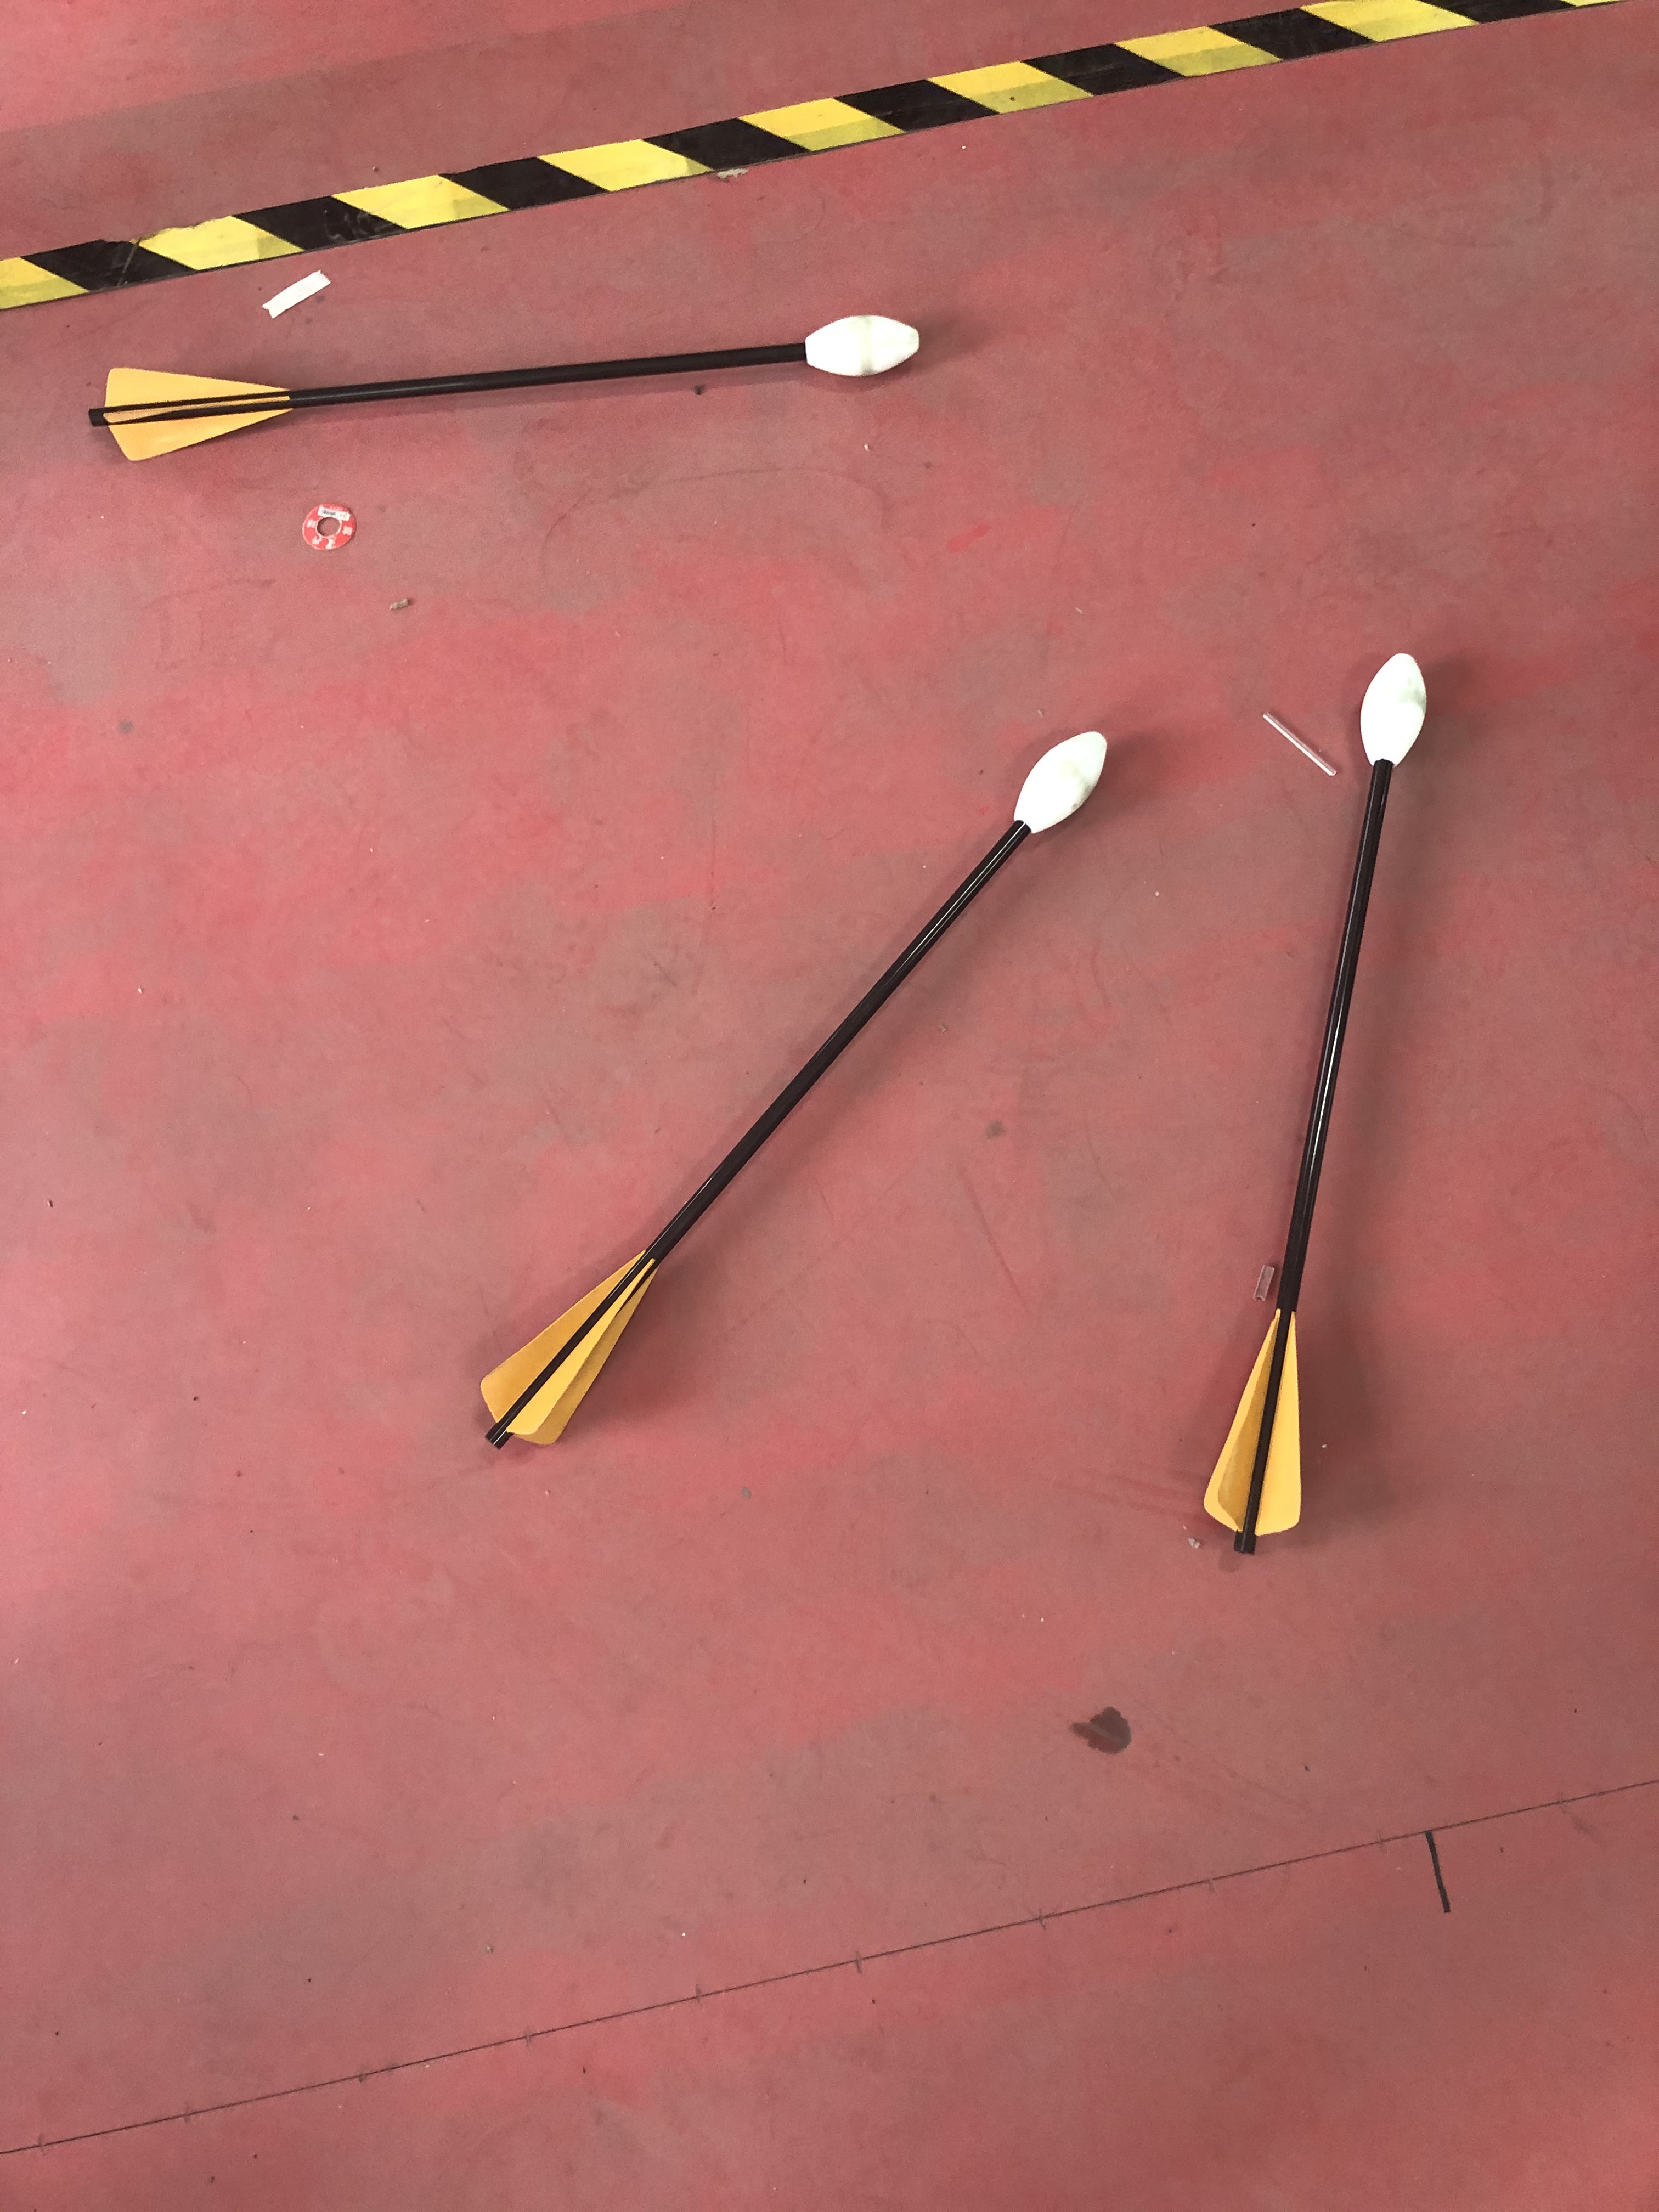arrow: (472, 728, 1112, 1451), (1194, 648, 1431, 1559), (85, 312, 929, 469)
arrowFront: (1004, 725, 1108, 840), (1356, 644, 1431, 773), (798, 307, 924, 380)
